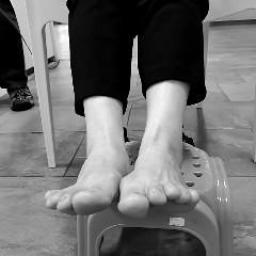Front View -Both Feet-: (26, 92, 220, 234)
